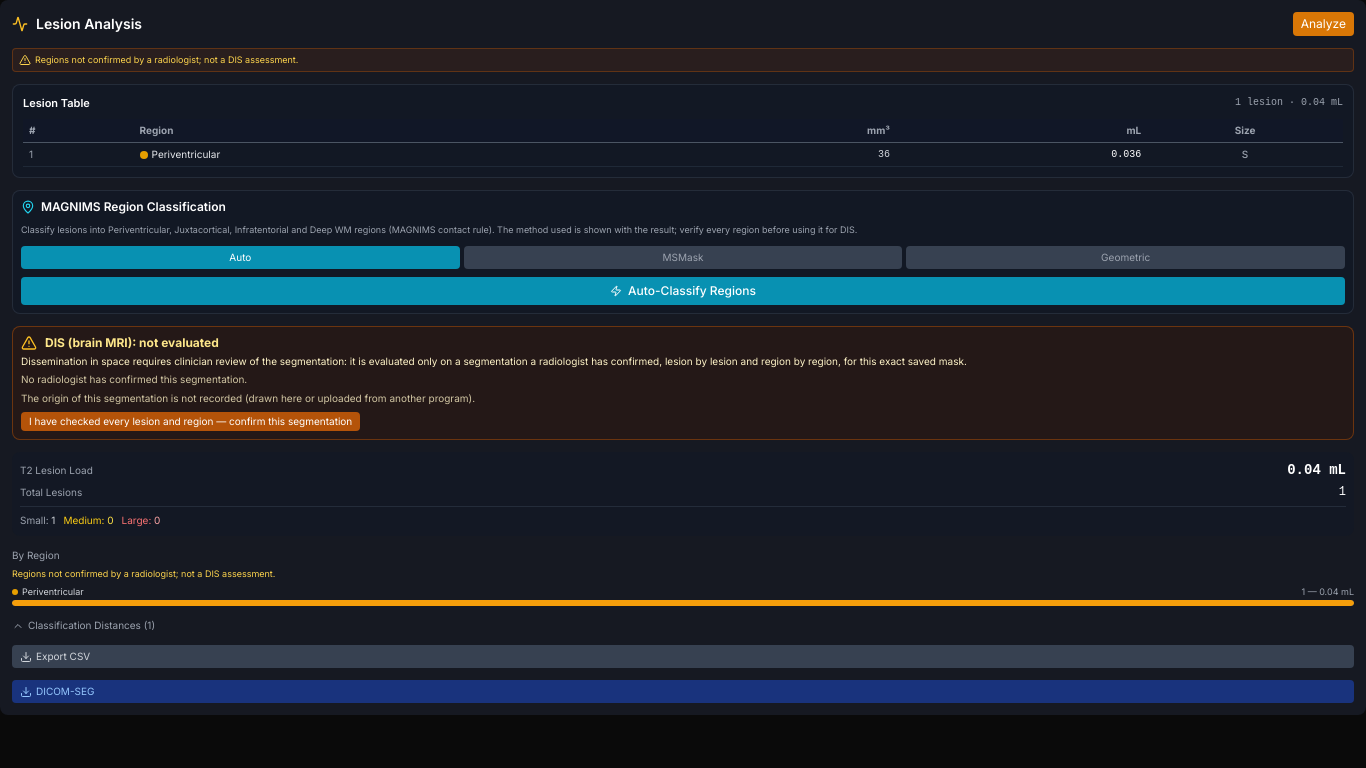
PRB-030: Confirm only while the image under the mask is on the mask grid › rc092 prb030 refused: an image with fewer slices (the mask would be cut off)
This screenshot has width=1366, height=768.
Click the button "confirm this segmentation" at (191, 422), box [21,412,360,431]
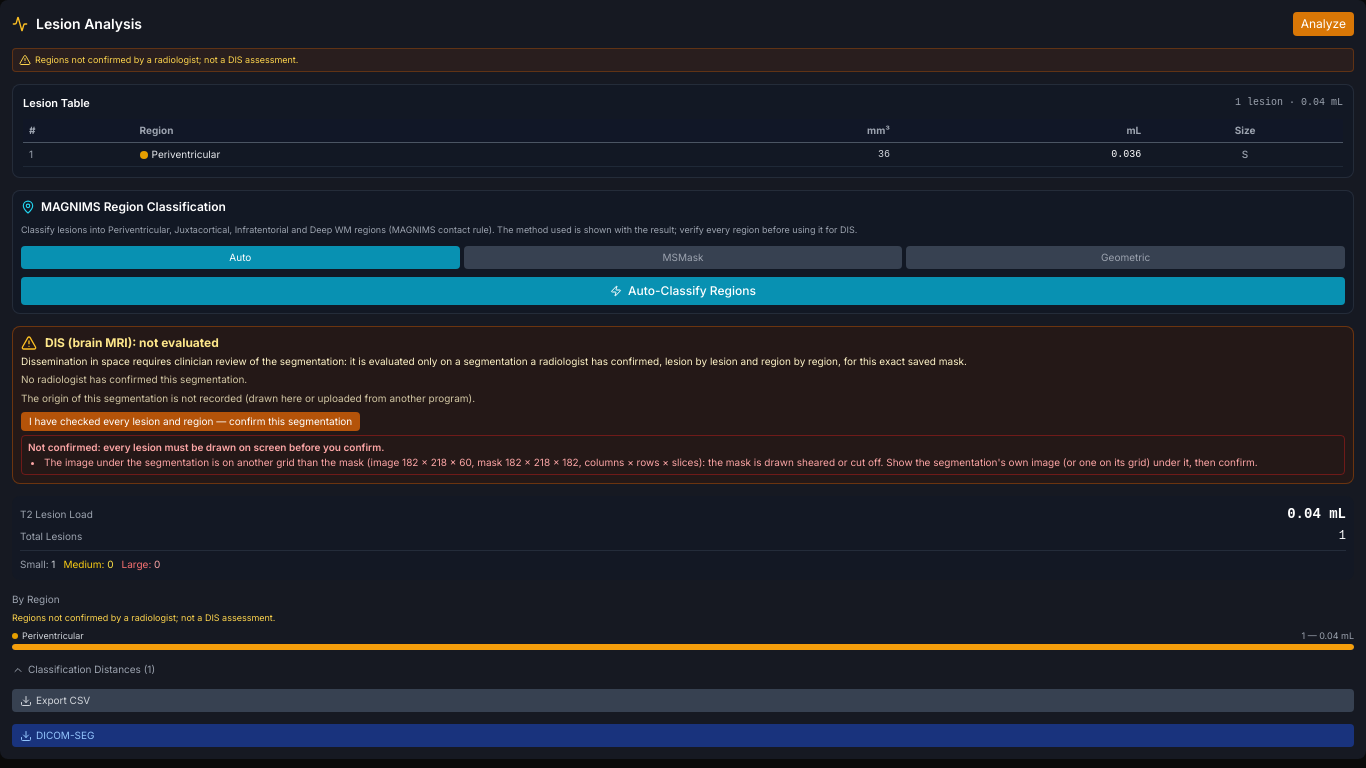
Result: the message with test id "dis-confirm-refused" shows "grid" at [44,456,1258,468]
Result: the message with test id "dis-confirm-refused" shows "182 × 218 × 60" at [44,456,1258,468]
